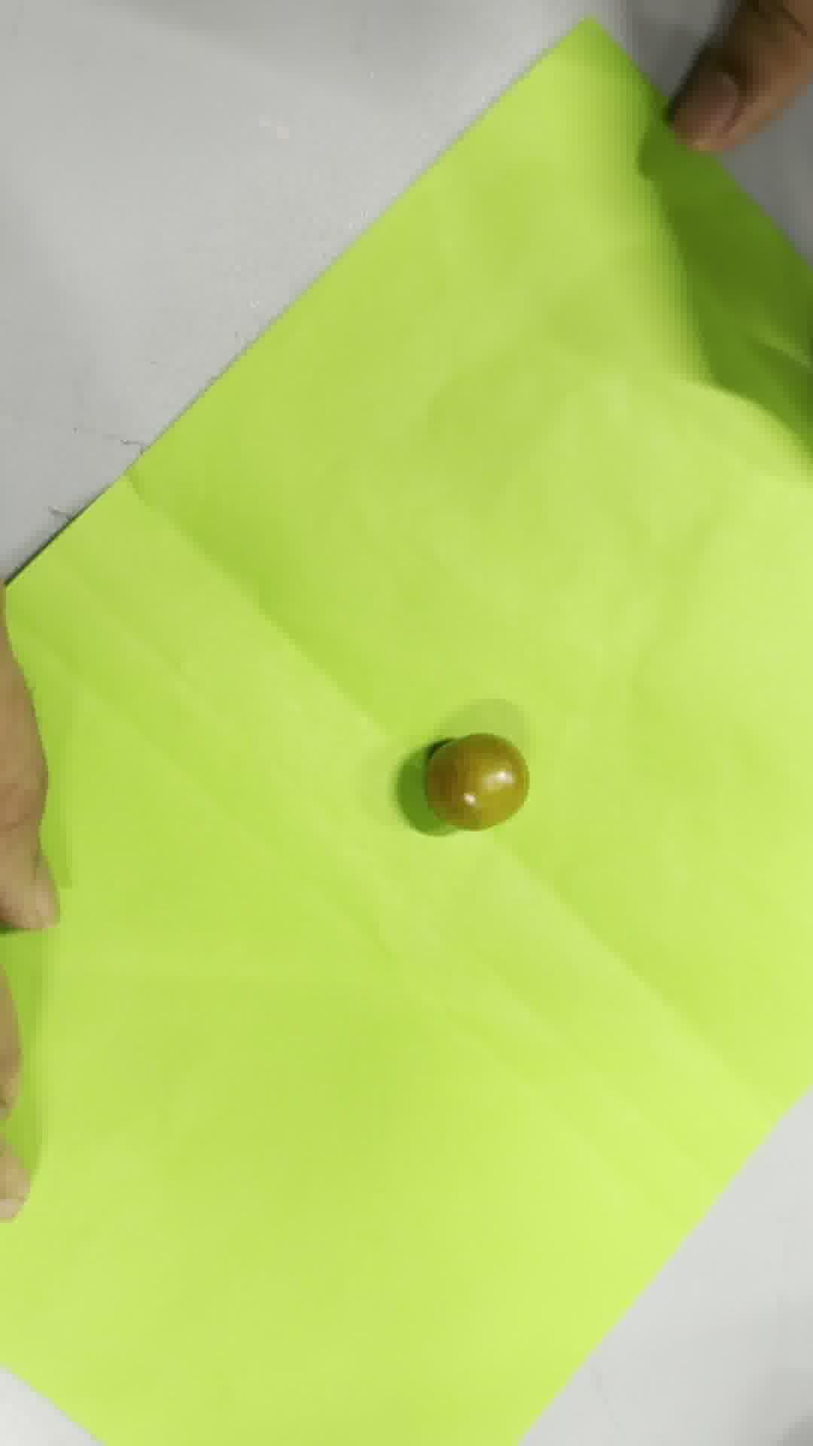yellow_cherry_tomato: (425, 734, 528, 831)
